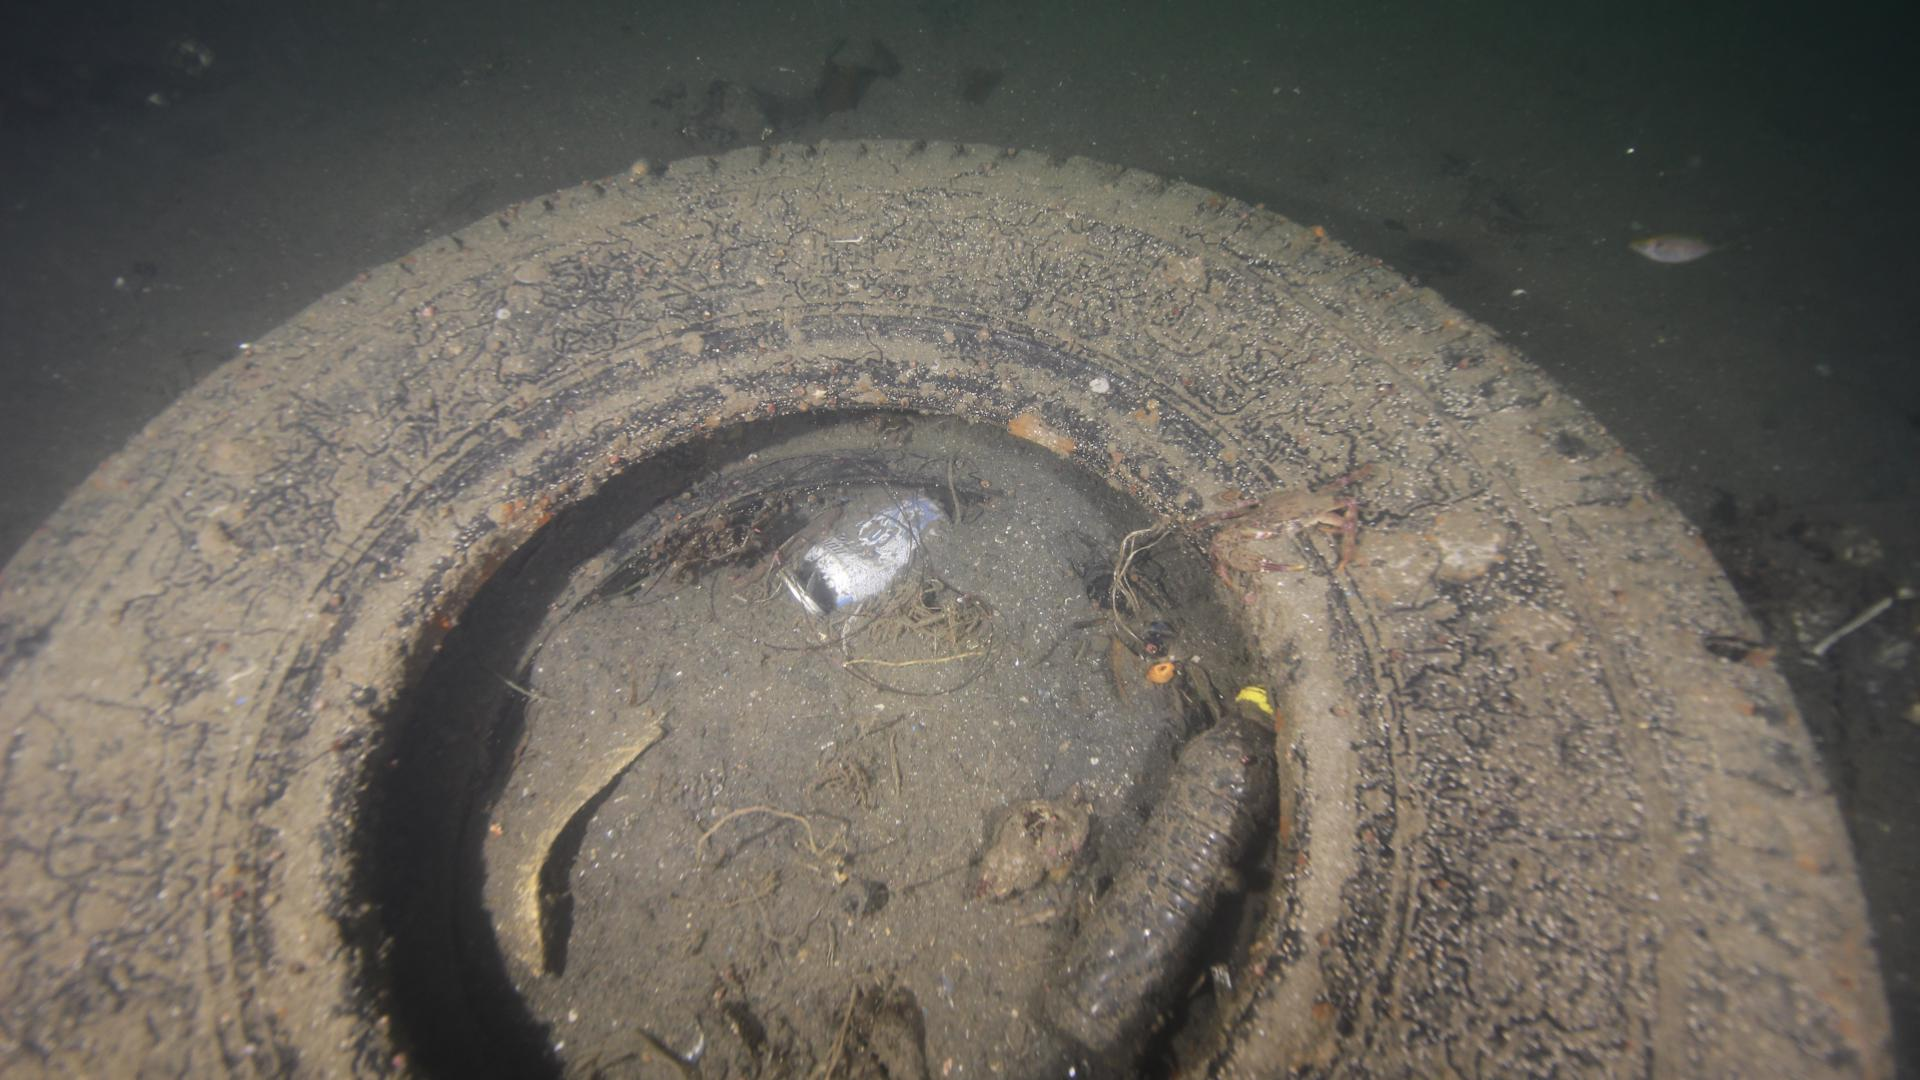tire: (0, 129, 1902, 1080)
